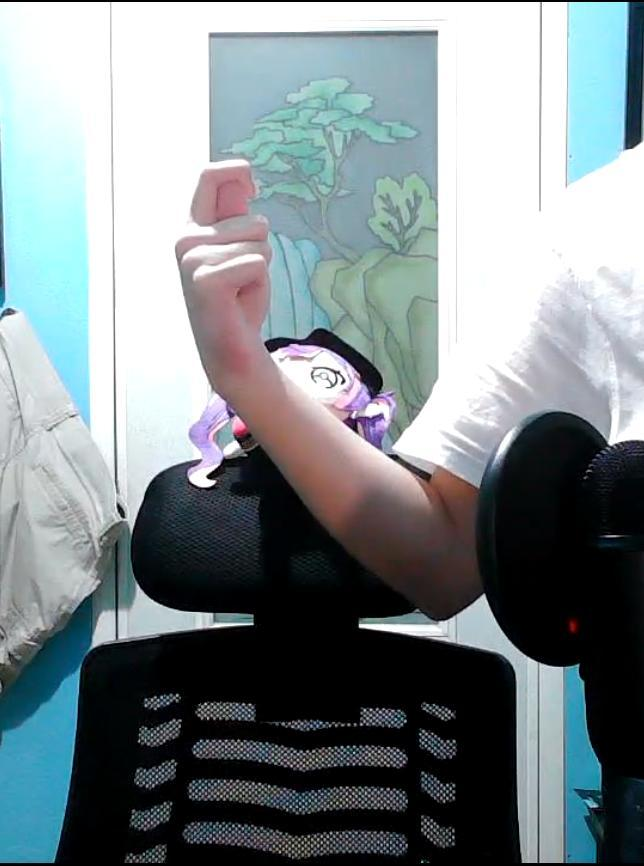t: (177, 154, 276, 353)
